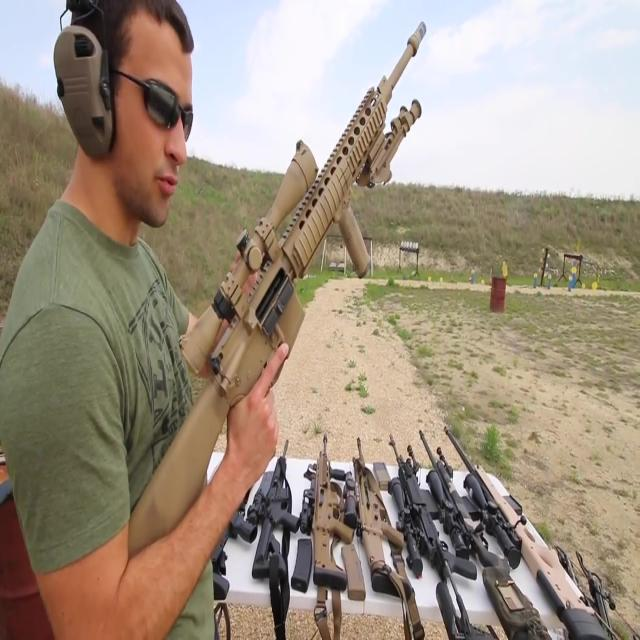Weapon: (117, 7, 439, 589), (183, 394, 610, 640)
